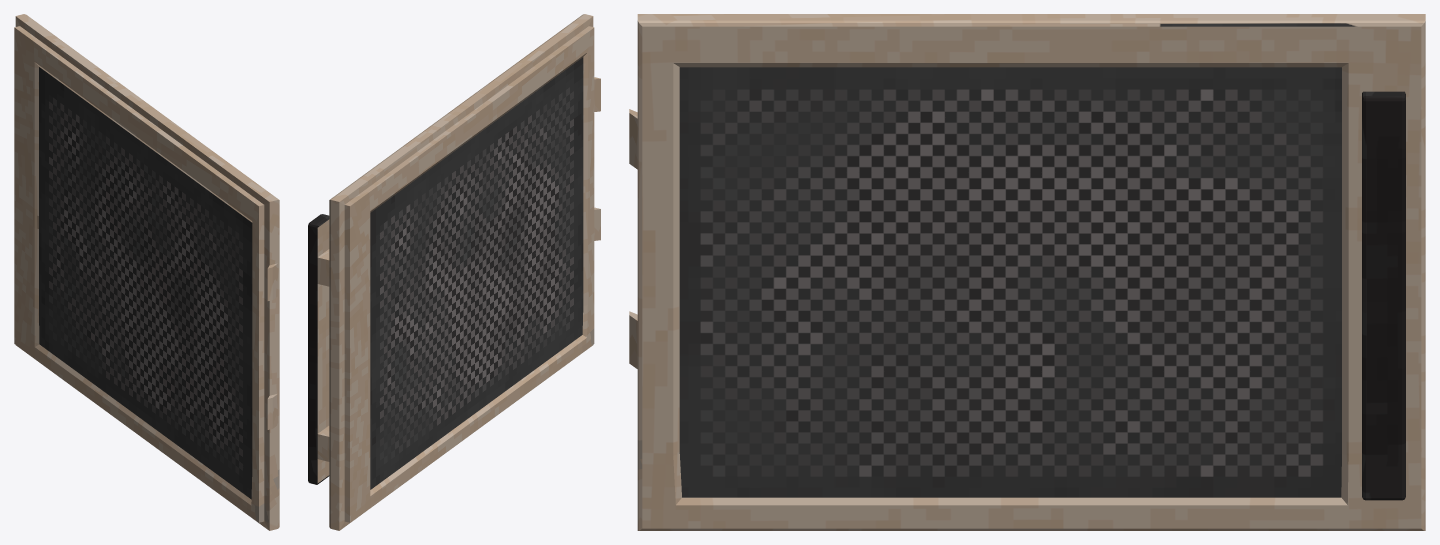
File: TapaMicroondas.fbx
3 renders of one model, left to right at view 1: azimuth 30°, elevation 25°; view 2: azimuth 150°, elevation 25°; view 3: azimuth 270°, elevation 25°, orthographic. The views are drawn at different scales.
Visible parts, largest first — view 1: Ondas; view 2: Ondas; view 3: Ondas.
Boxes of the visible parts, x1,y1,x2,y2 form: Ondas: [14, 14, 279, 530]; Ondas: [308, 14, 600, 530]; Ondas: [629, 14, 1425, 530].
Bounding box in the file's own units: 23.63 × 167 × 236.
1 material, 1 textured.
